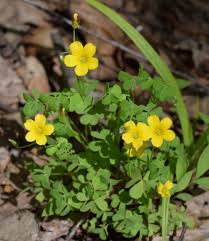clover: (88, 126, 117, 158)
yellow wood sorrel: (62, 41, 100, 78), (23, 110, 54, 147), (145, 114, 175, 149), (120, 118, 149, 151), (156, 180, 174, 198)
